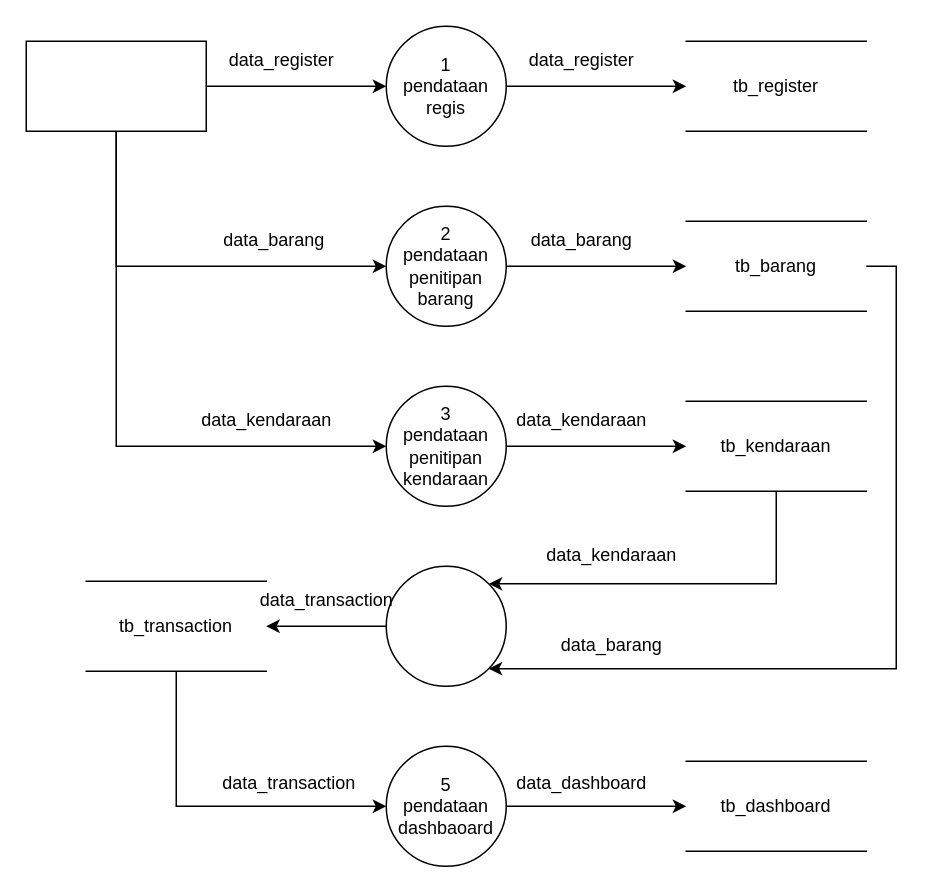
Image size: 935x893. Some labels were removed from this diagram. Here are the shapes that lost their labels. From the top down, the box of each, then its label:
(25, 40, 206, 131): pengguna
(385, 565, 506, 686): 4 pendataan transaksi
